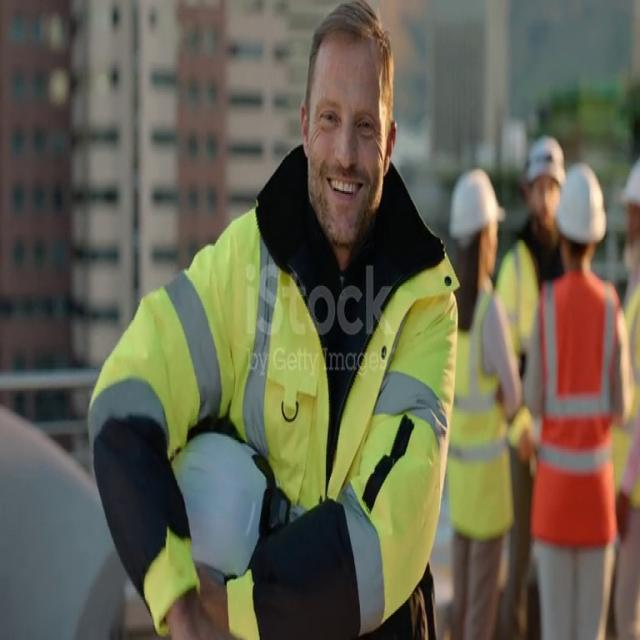capacete: (164, 396, 294, 598), (436, 164, 510, 250), (555, 157, 612, 257), (510, 123, 570, 205), (618, 147, 640, 255)
